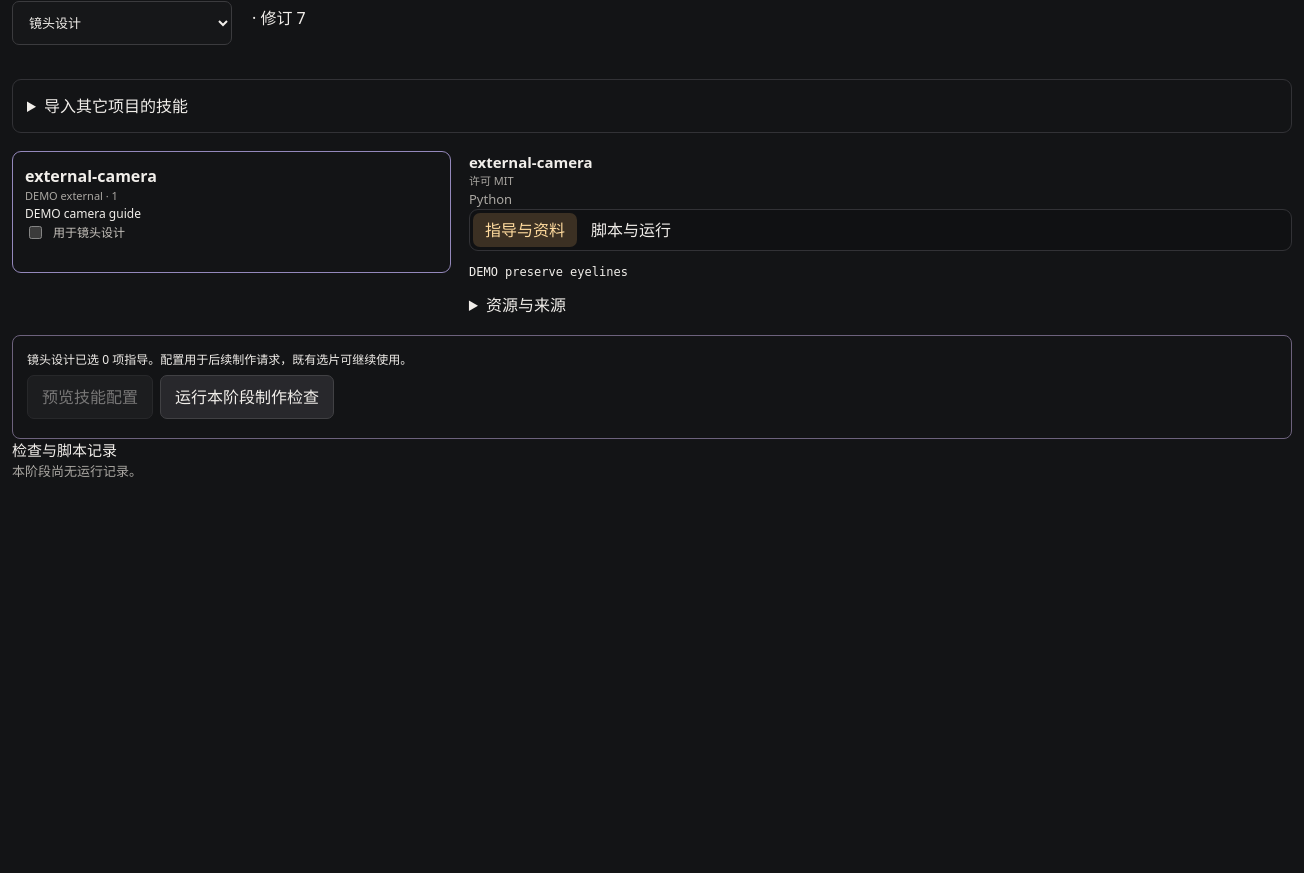
Test: preserves unavailable container preview with its reason and disables approval
Click the button "脚本与运行": (631,230) [579,213,683,247]
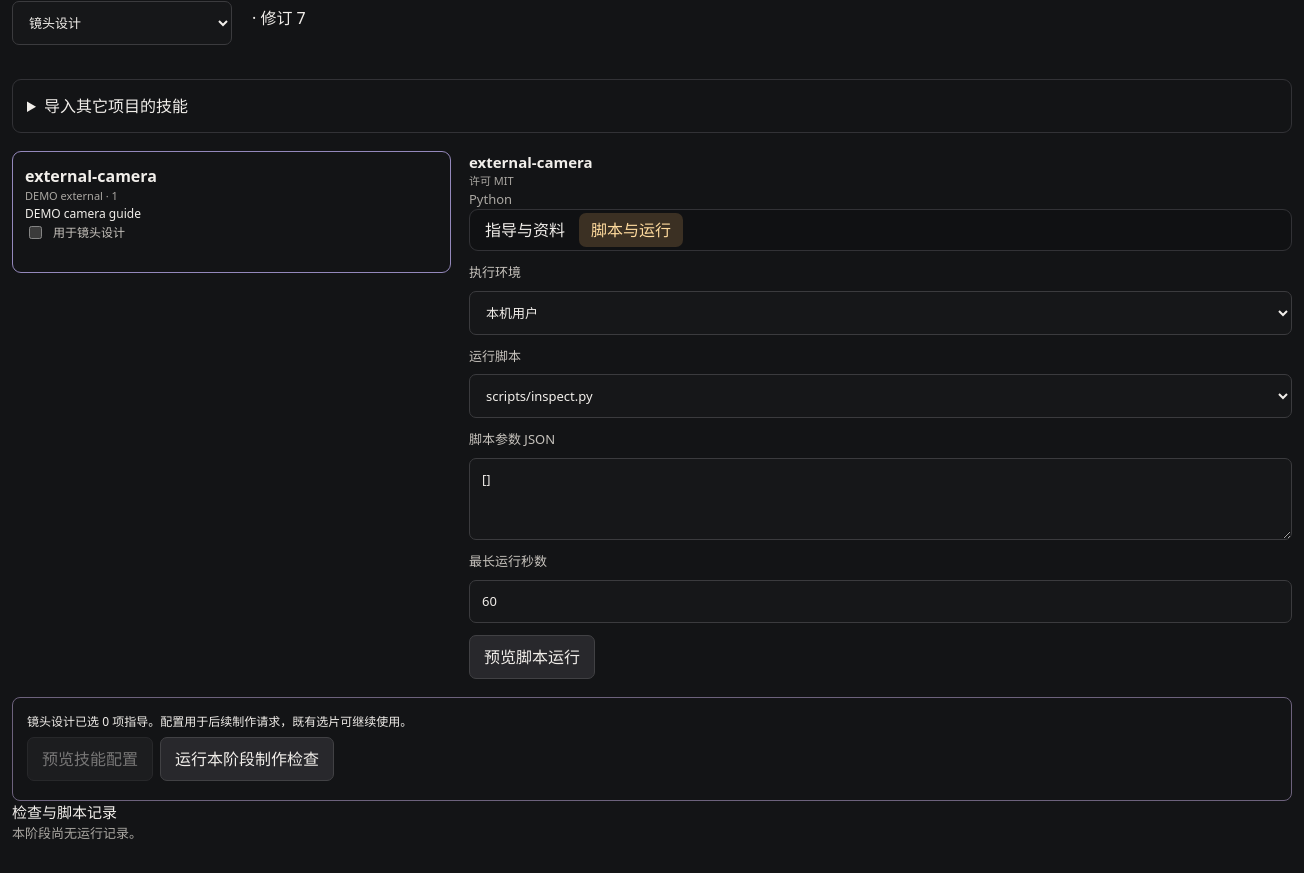
Select "隔离容器" in the dropdown labelled "执行环境": (880,312) [469,290,1292,334]
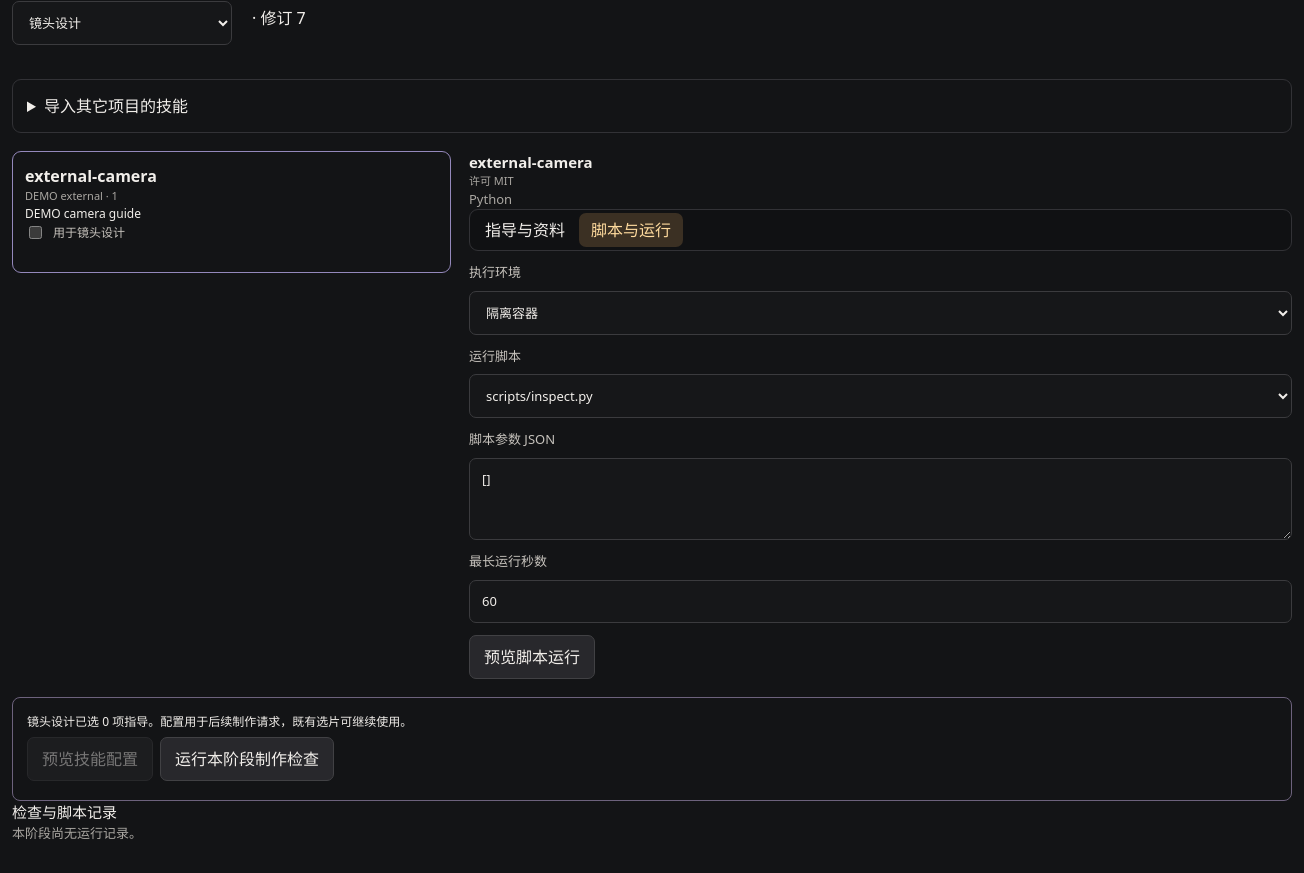
Click the button "预览脚本运行": (532,657) [469,635,595,679]
(page scrolled)
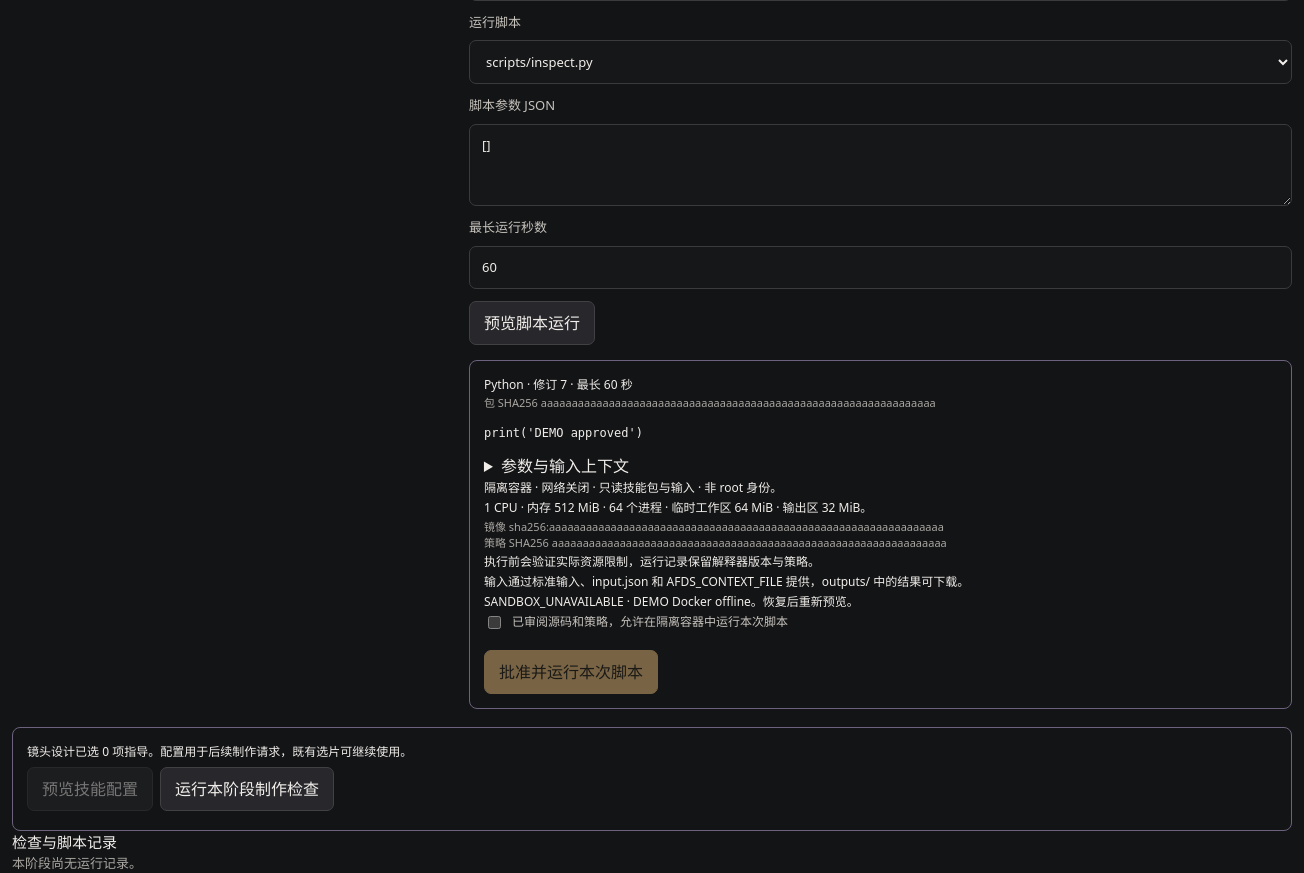
Check: the text "SANDBOX_UNAVAILABLE · DEMO Docker offline。恢复后重新预览。" is shown, box [484,594,859,610]
Check: the text named "待运行脚本源码" shows "DEMO approved", box [484,426,643,440]
Check: the button "批准并运行本次脚本" is disabled, box [484,650,658,694]
